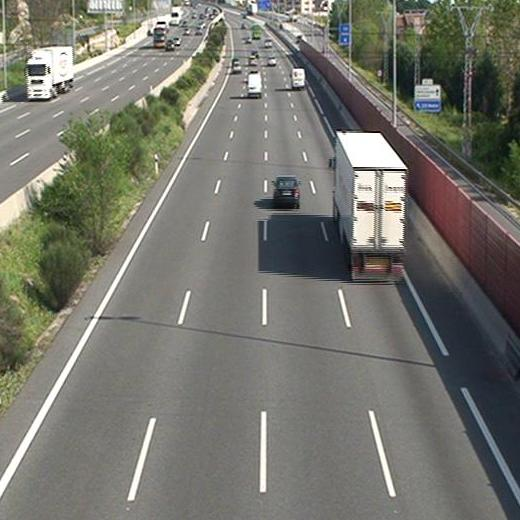car: (273, 176, 300, 204), (231, 61, 240, 72)
truck: (335, 132, 405, 282)
van: (247, 72, 261, 98), (290, 69, 305, 88)
